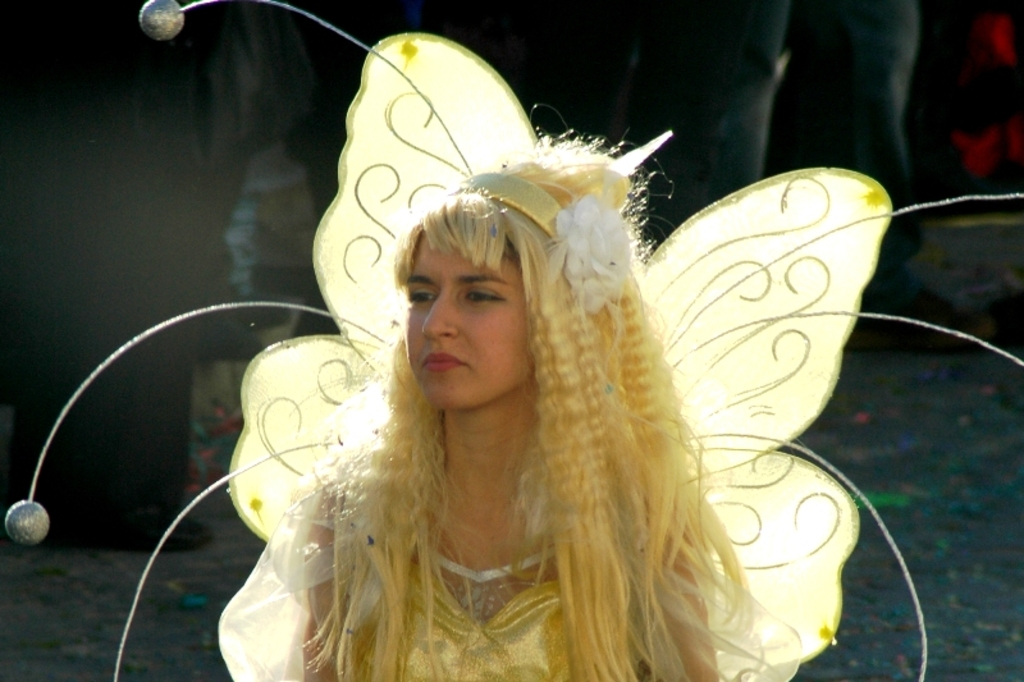face: (401, 220, 552, 407)
